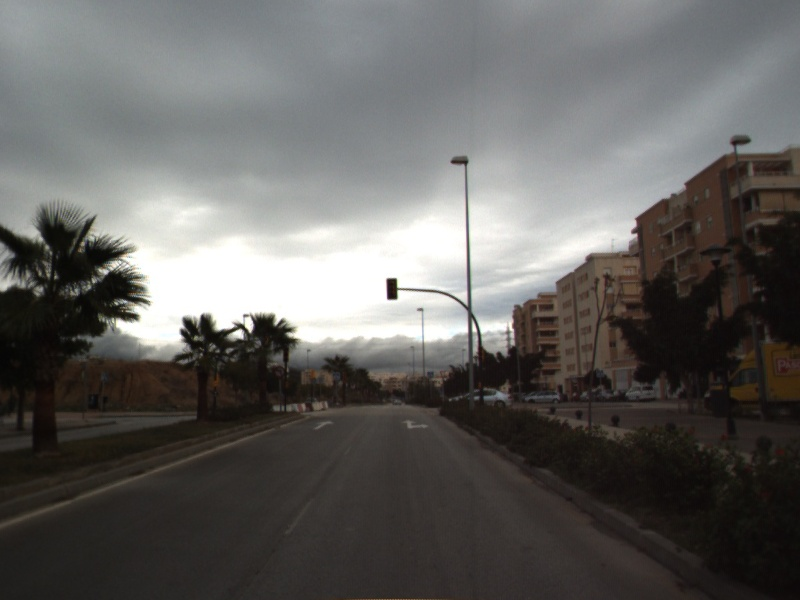STRAIGHT: (312, 418, 336, 432)
STRAIGHT_RIGHT: (400, 417, 431, 431)
